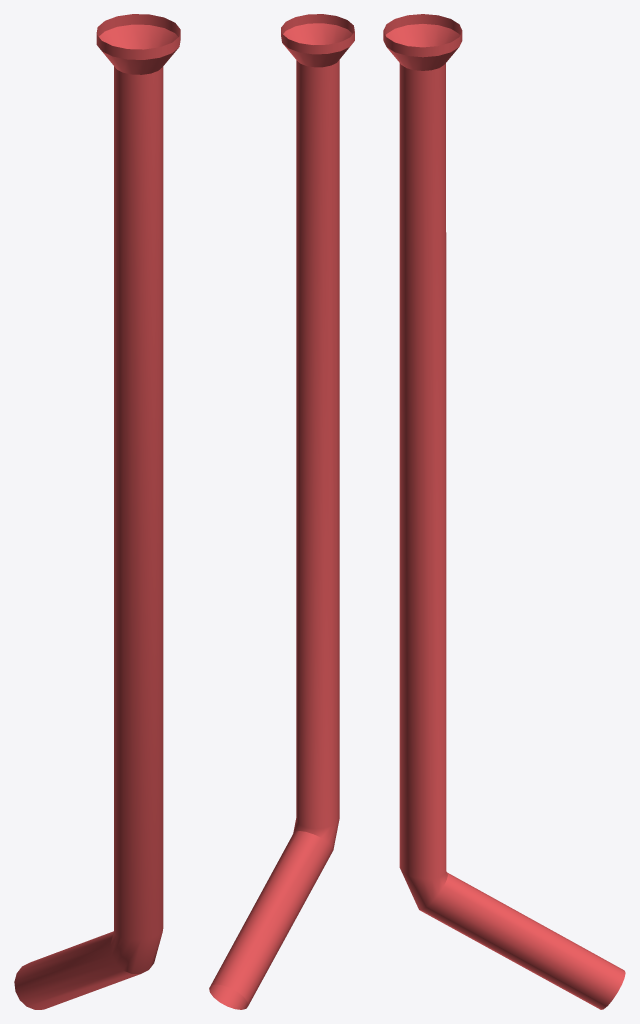
The model's file is Gutter_part_2.fbx.
The picture shows the model from 3 angles, left to right: view 1: azimuth 30°, elevation 25°; view 2: azimuth 150°, elevation 25°; view 3: azimuth 270°, elevation 25°; orthographic projection. The views are drawn at different scales.
Visible parts, largest first — view 1: Gutter_part_2; view 2: Gutter_part_2; view 3: Gutter_part_2.
Part boxes in pixels (box(x1,y1,x2,y2)): Gutter_part_2: box(14, 14, 180, 1009); Gutter_part_2: box(209, 14, 354, 1009); Gutter_part_2: box(383, 14, 625, 1009).
Bounding box in the file's own units: 20.43 × 278 × 62.58.
